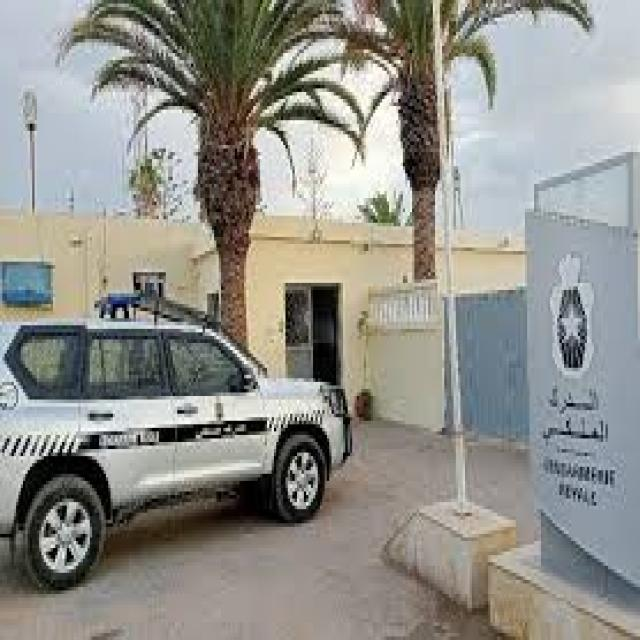gendarme car: (0, 281, 356, 594)
